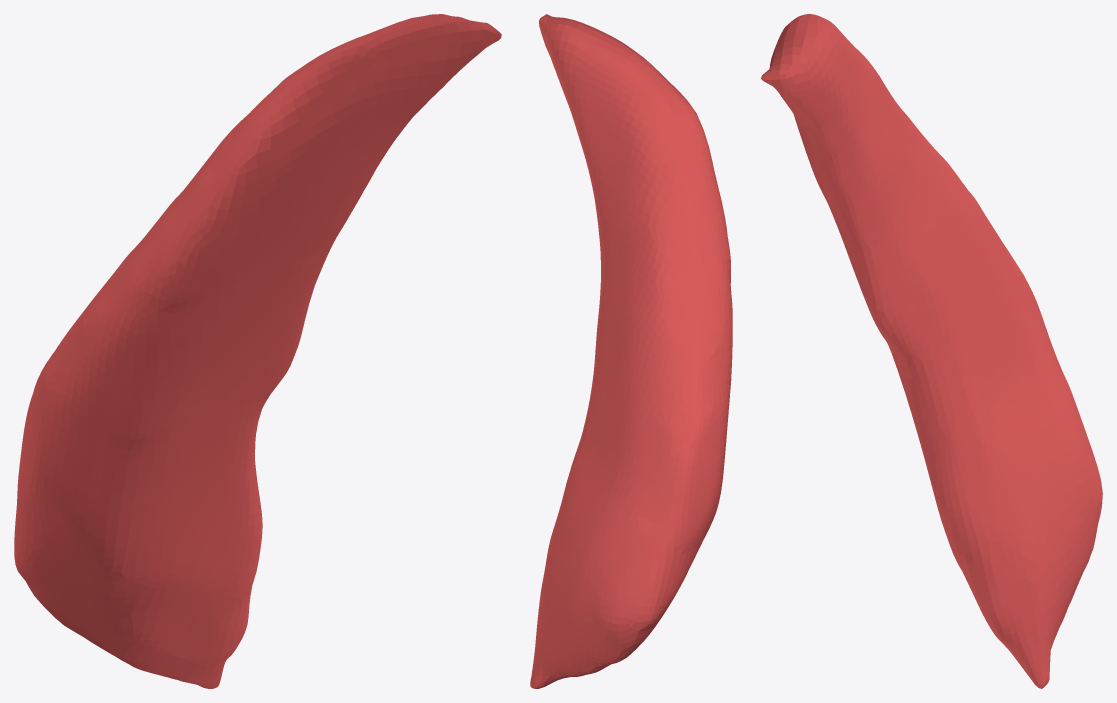
Rendered from sickle_cell-Dcjoagjf.glb.
3 renders of one model, left to right at view 1: azimuth 30°, elevation 25°; view 2: azimuth 150°, elevation 25°; view 3: azimuth 270°, elevation 25°, orthographic. The views are drawn at different scales.
Visible parts, largest first — view 1: PolySketch_Export.003_0; view 2: PolySketch_Export.003_0; view 3: PolySketch_Export.003_0.
Part boxes in pixels (bbox=[...]): PolySketch_Export.003_0: bbox=[14, 14, 501, 688]; PolySketch_Export.003_0: bbox=[530, 14, 732, 688]; PolySketch_Export.003_0: bbox=[761, 14, 1102, 688].
Bounding box in the file's own units: 0.0758 × 0.1573 × 0.0709.
1 material, 1 textured.
